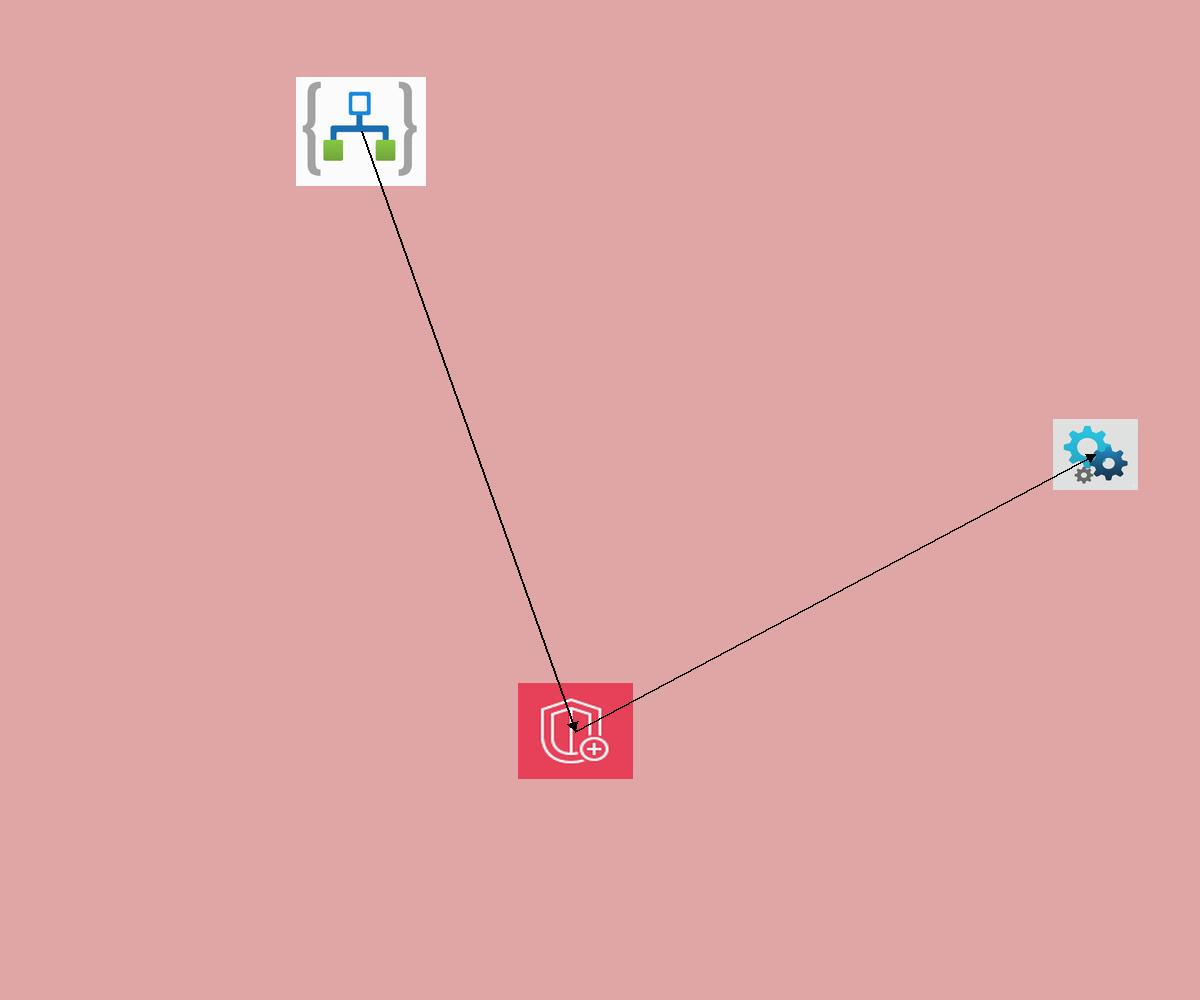AWS-Shield: (518, 683, 633, 779)
Azure_api: (1053, 419, 1138, 490)
Azure_integration-204-Logic-Apps: (296, 77, 426, 186)
